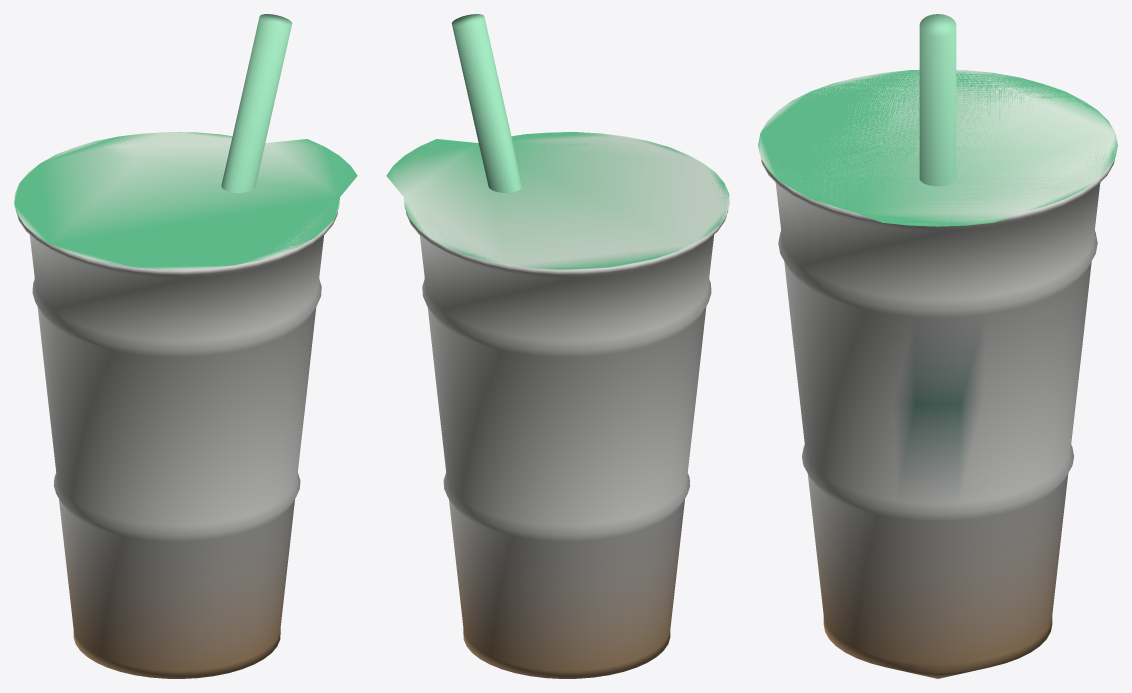
Rendered from drink.glb.
The picture shows the model from 3 angles, left to right: view 1: azimuth 30°, elevation 25°; view 2: azimuth 150°, elevation 25°; view 3: azimuth 270°, elevation 25°; orthographic projection. The views are drawn at different scales.
Visible parts, largest first — view 1: Drink_CupBody, Drink_Film, Drink_Straw; view 2: Drink_CupBody, Drink_Film, Drink_Straw; view 3: Drink_CupBody, Drink_Film, Drink_Straw.
Boxes of the visible parts, x1,y1,x2,y2 form: Drink_CupBody: [15, 210, 337, 678]; Drink_Film: [14, 132, 357, 269]; Drink_Straw: [221, 14, 292, 192]; Drink_CupBody: [406, 210, 728, 678]; Drink_Film: [386, 132, 729, 269]; Drink_Straw: [451, 14, 522, 192]; Drink_CupBody: [761, 159, 1114, 678]; Drink_Film: [758, 69, 1117, 226]; Drink_Straw: [919, 14, 956, 186].
Size of the model in its own units: 0.115 by 0.2182 by 0.107.
